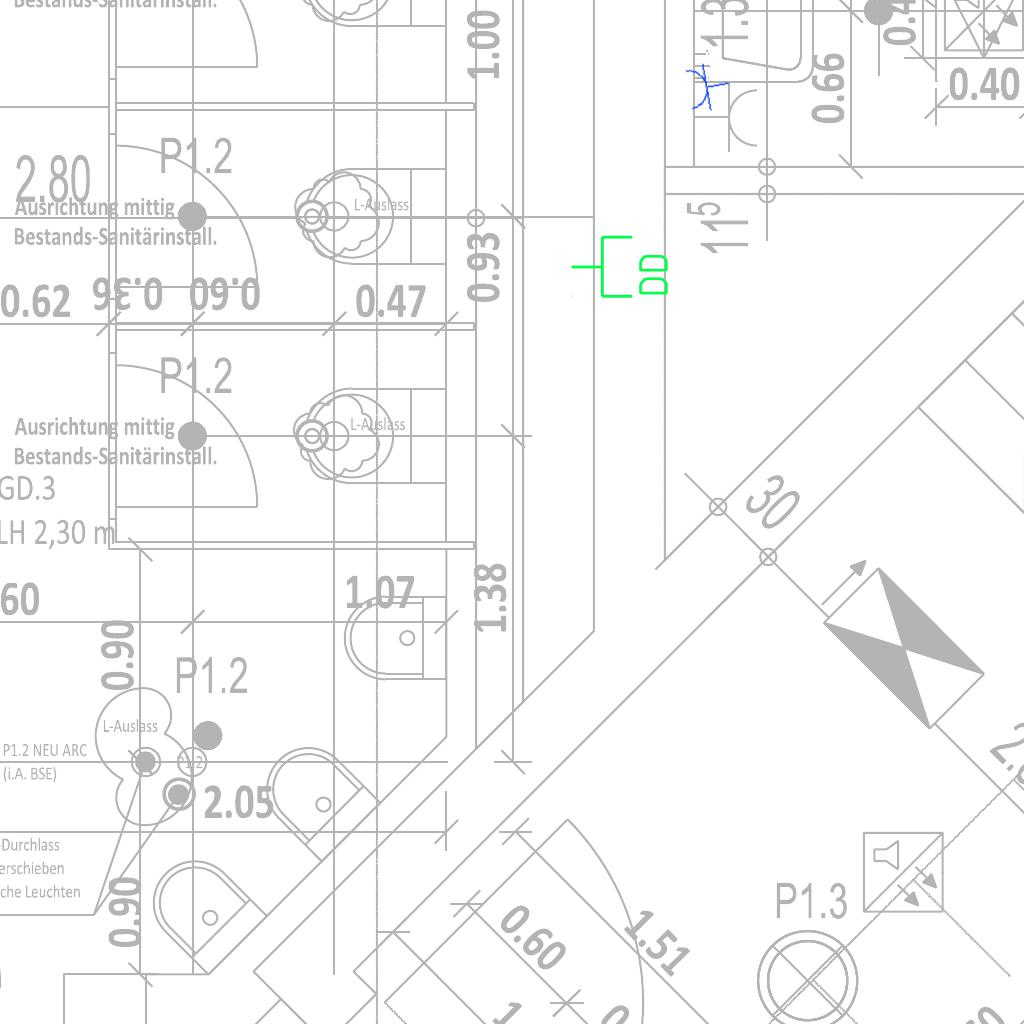Datenanschluss_zweifach: (569, 233, 672, 302)
Schukosteckdose_einfach: (682, 58, 734, 115)
